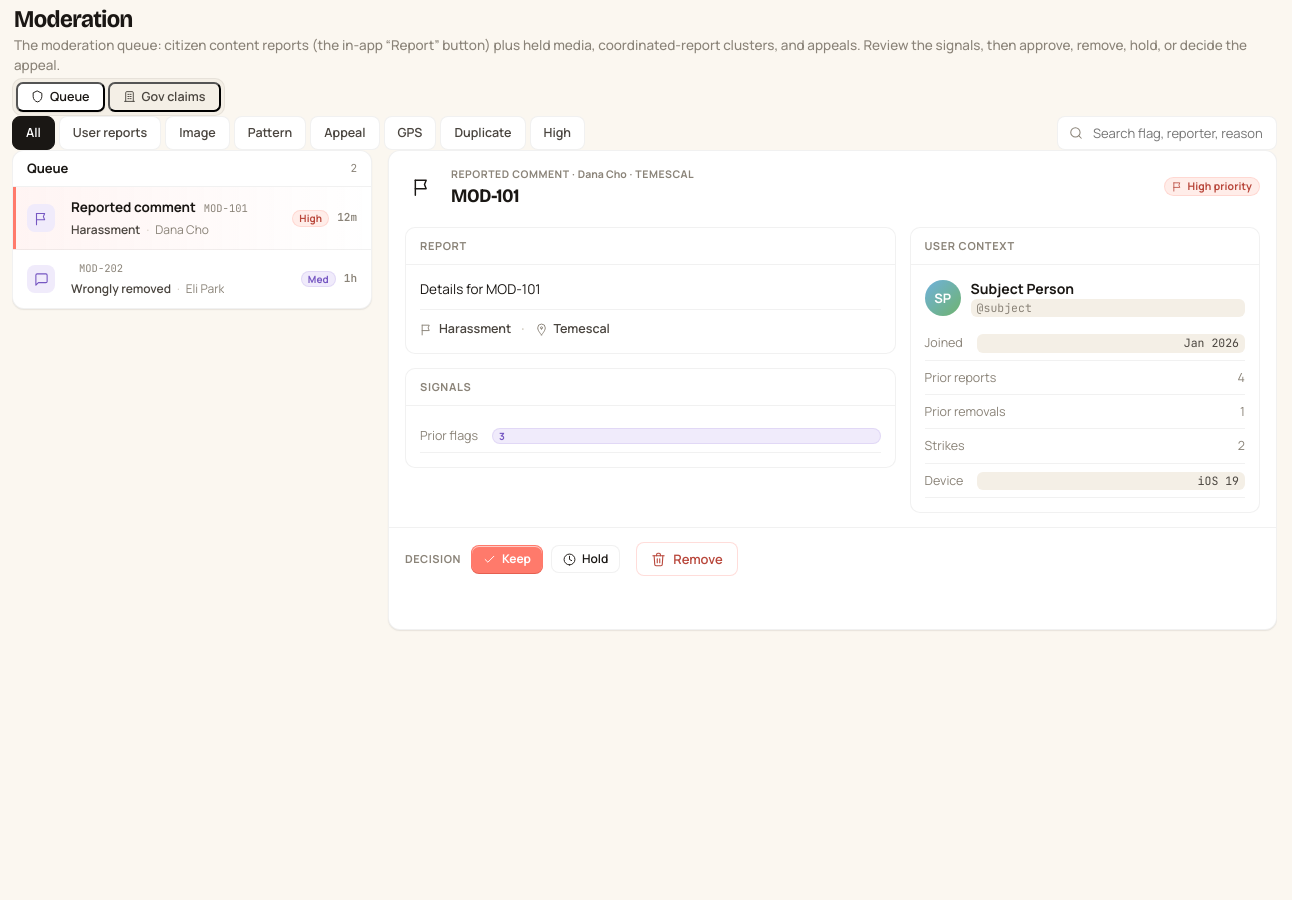
Test: ModerationPage queue › opens the clicked item in the detail pane
Check: the heading "MOD-101" is shown, box [451,184,519,207]
Click the text "MOD-202" at [101, 269], box [79,261,123,277]
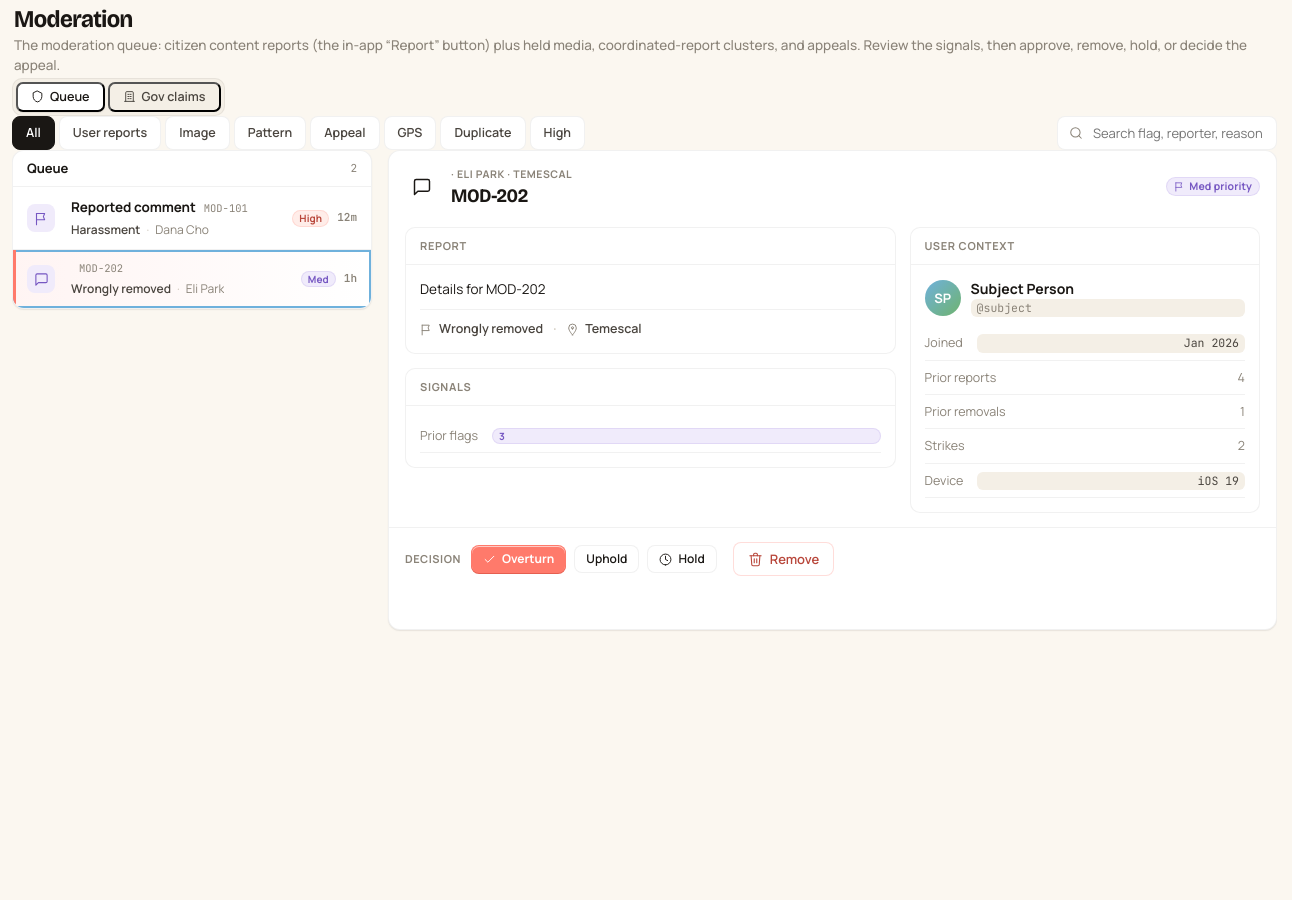
Check: the heading "MOD-202" is shown, box [451,184,528,207]
Check: the button "Overturn" is shown, box [471,545,566,573]
Check: the button "Uphold" is shown, box [574,545,639,573]
